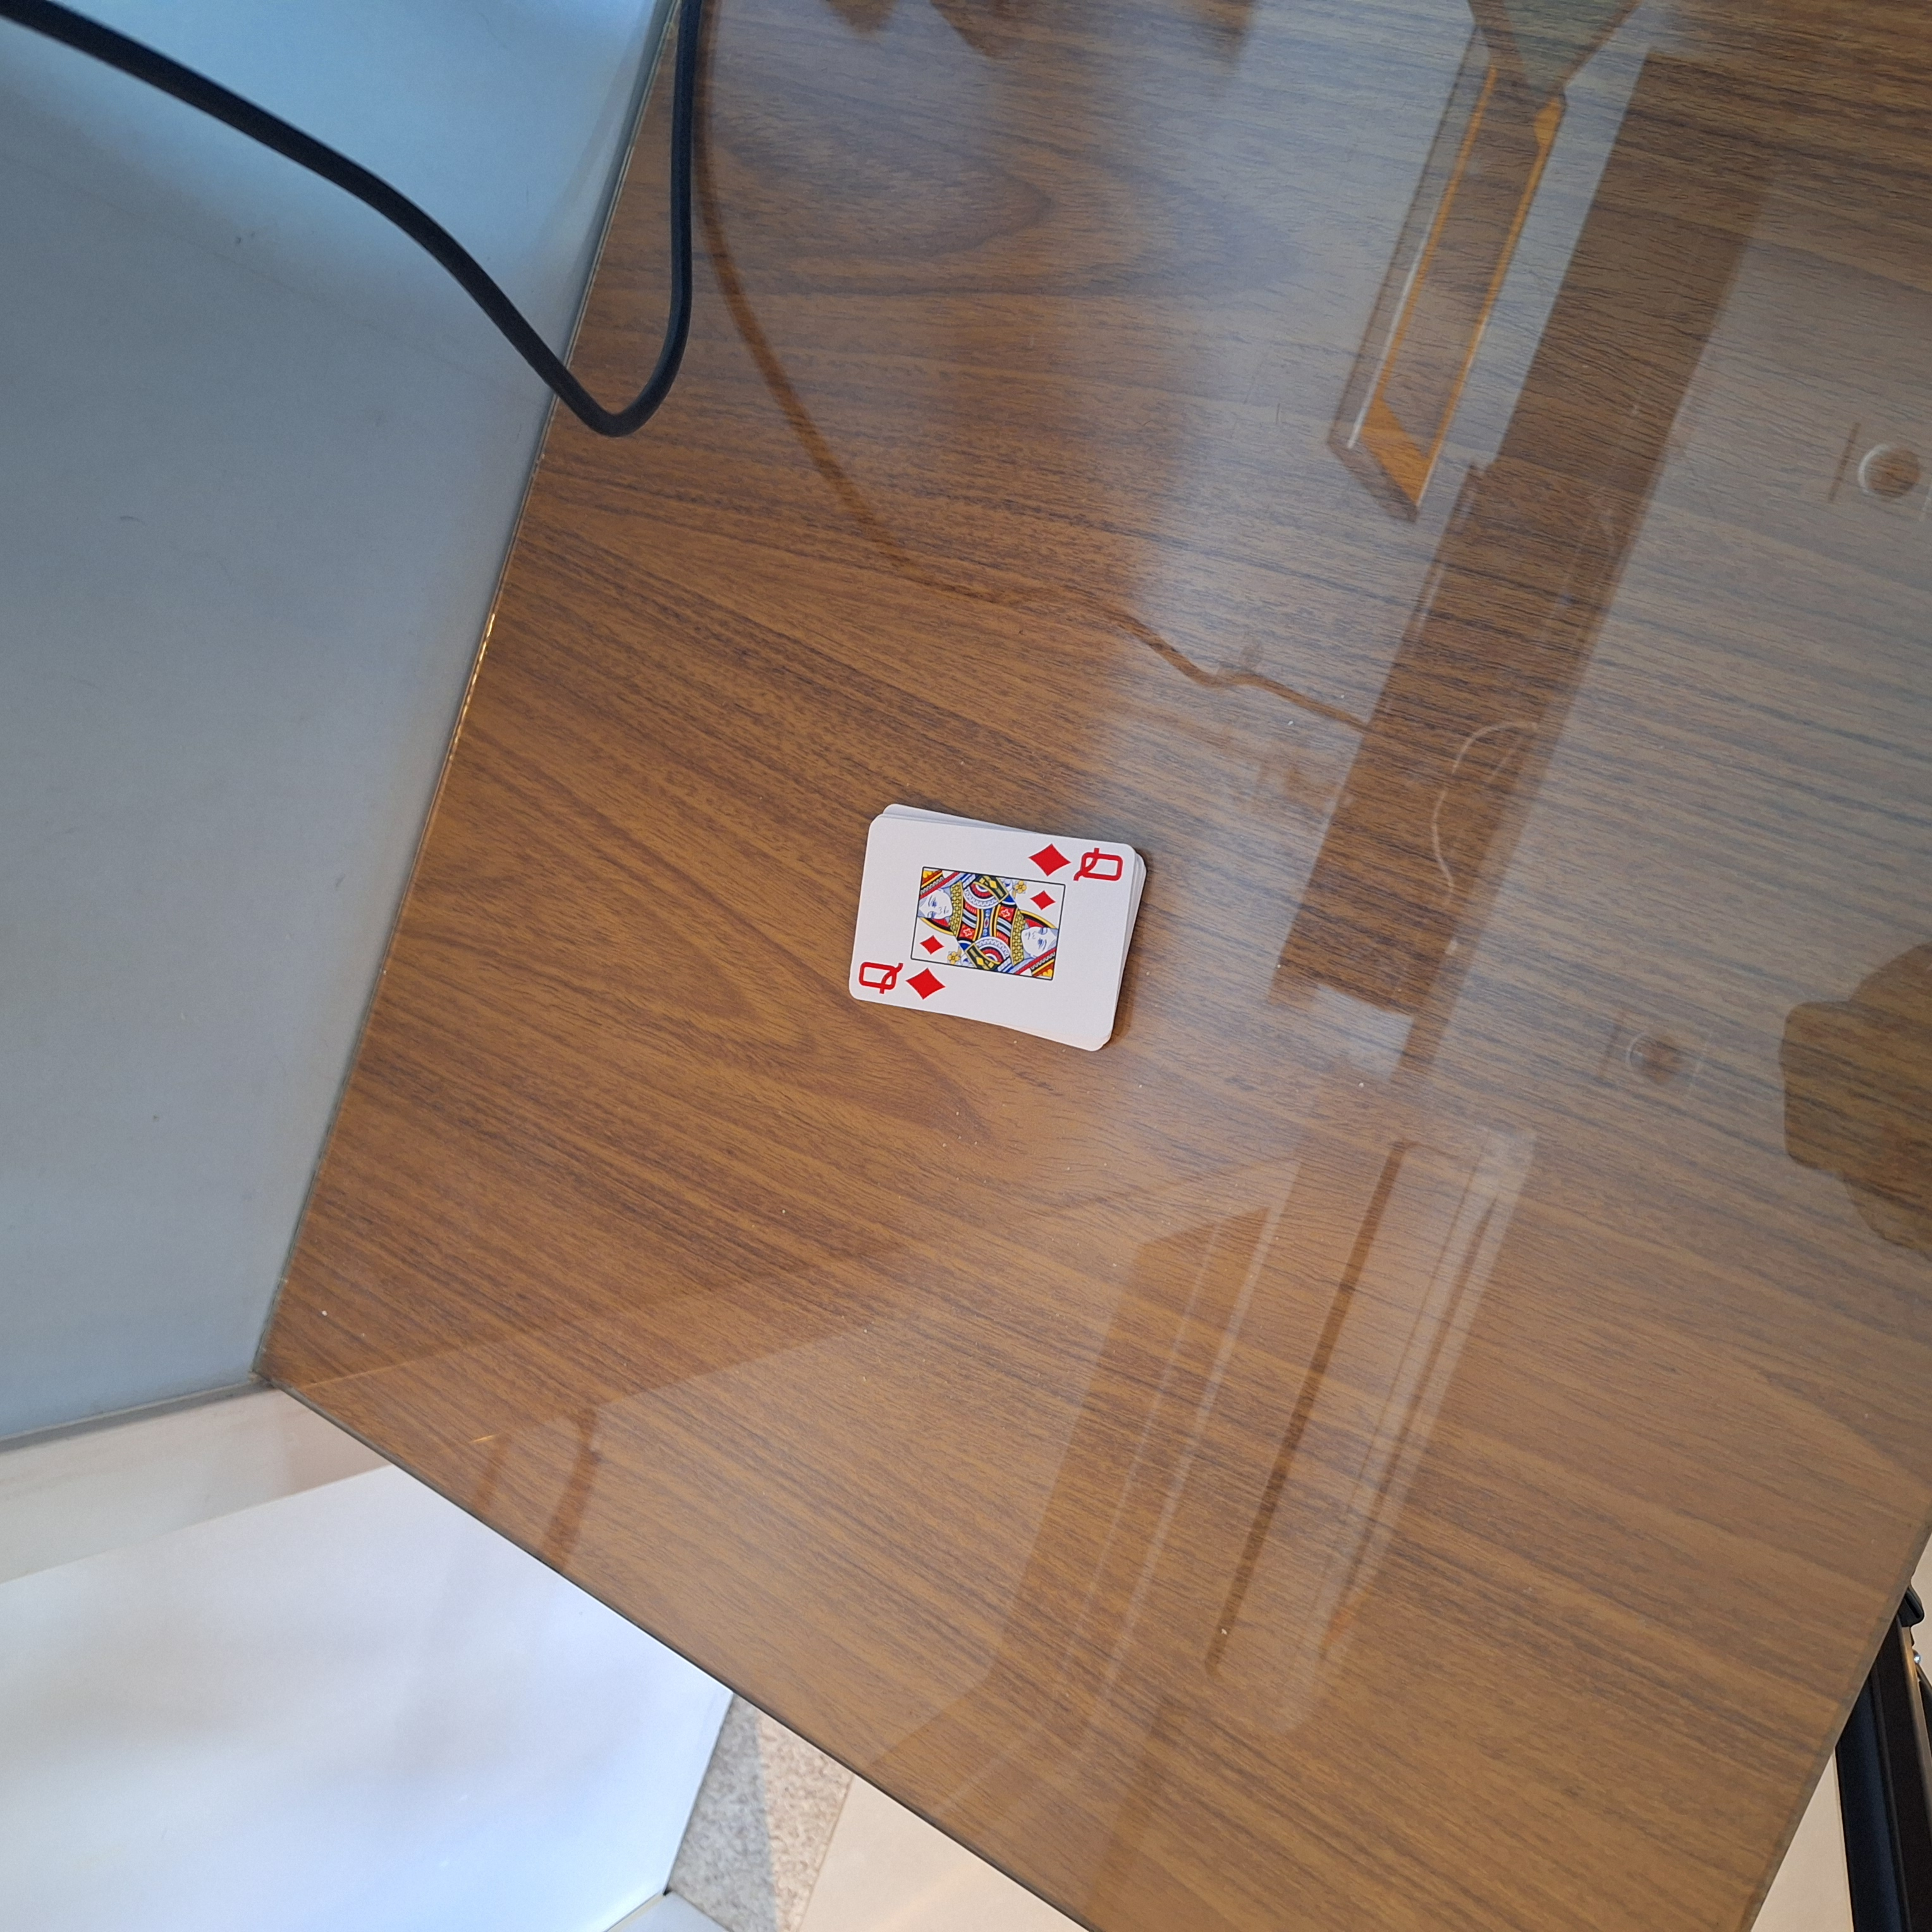QO: (1024, 833, 1136, 892), (849, 950, 948, 1005)
